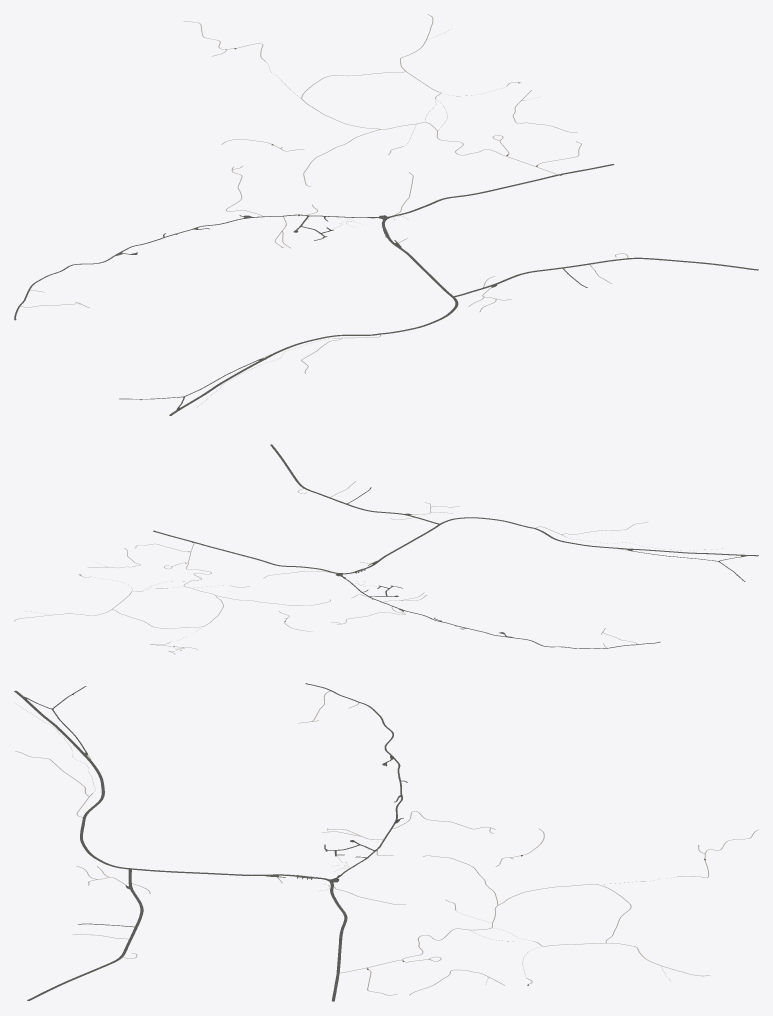
File: roads.glb
3 renders of one model, top to bottom at view 1: azimuth 30°, elevation 25°; view 2: azimuth 150°, elevation 25°; view 3: azimuth 270°, elevation 25°, orthographic. The views are drawn at different scales.
Parts seen in each view (by area): view 1: Road_Tarmac, Road_Track, Road_Lane; view 2: Road_Tarmac, Road_Track, Road_Lane; view 3: Road_Lane, Road_Track, Road_Tarmac.
Boxes of the visible parts, bbox=[...] form: Road_Tarmac: bbox=[170, 164, 757, 415]; Road_Track: bbox=[21, 14, 628, 373]; Road_Lane: bbox=[14, 164, 758, 415]; Road_Tarmac: bbox=[154, 445, 757, 573]; Road_Track: bbox=[14, 481, 646, 654]; Road_Lane: bbox=[153, 444, 758, 648]; Road_Lane: bbox=[14, 683, 407, 1001]; Road_Track: bbox=[15, 691, 757, 995]; Road_Tarmac: bbox=[15, 691, 346, 1000].
Size of the model in its own units: 2399 by 199 by 2398.
12 materials, 7 textured.
